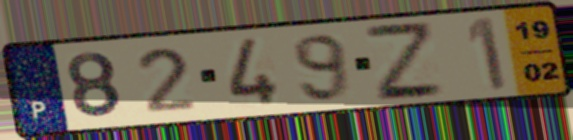1: (464, 14, 510, 94)
2: (134, 46, 200, 115)
4: (225, 35, 283, 109)
8: (64, 50, 125, 120)
9: (290, 33, 355, 103)
Z: (360, 21, 449, 104)
